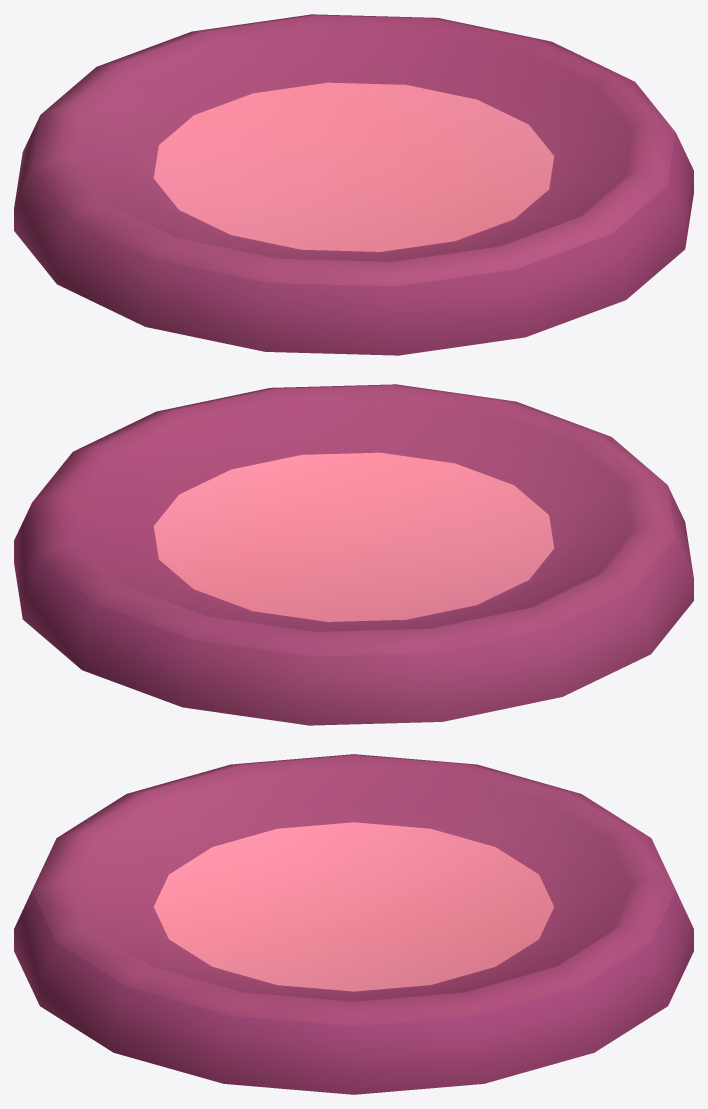
Rendered from DogBedPink.glb.
The picture shows the model from 3 angles, top to bottom: view 1: azimuth 30°, elevation 25°; view 2: azimuth 150°, elevation 25°; view 3: azimuth 270°, elevation 25°; orthographic projection.
Parts seen in each view (by area): view 1: DogBedPink; view 2: DogBedPink; view 3: DogBedPink.
Part boxes in pixels (x1,y1,x2,y2): DogBedPink: [14, 14, 693, 355]; DogBedPink: [14, 384, 693, 725]; DogBedPink: [14, 754, 693, 1094].
Size of the model in its own units: 2 by 0.2348 by 2.
Materials: 1 (1 with a texture image).
